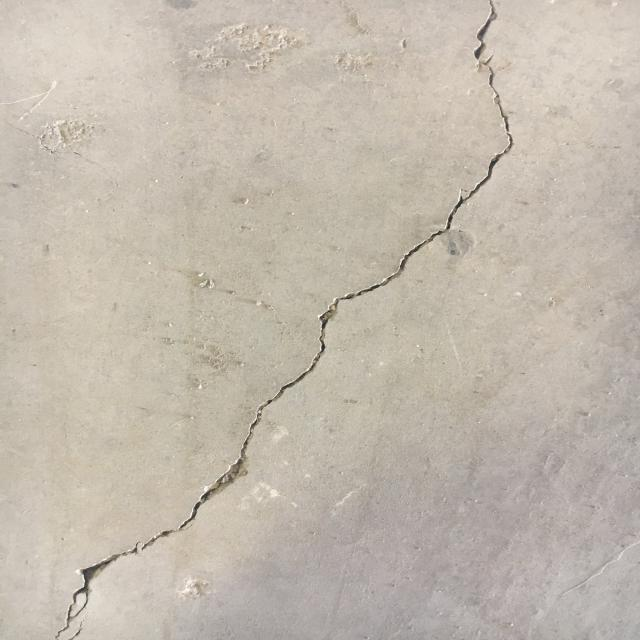SurfaceCrack: (19, 2, 552, 640)
